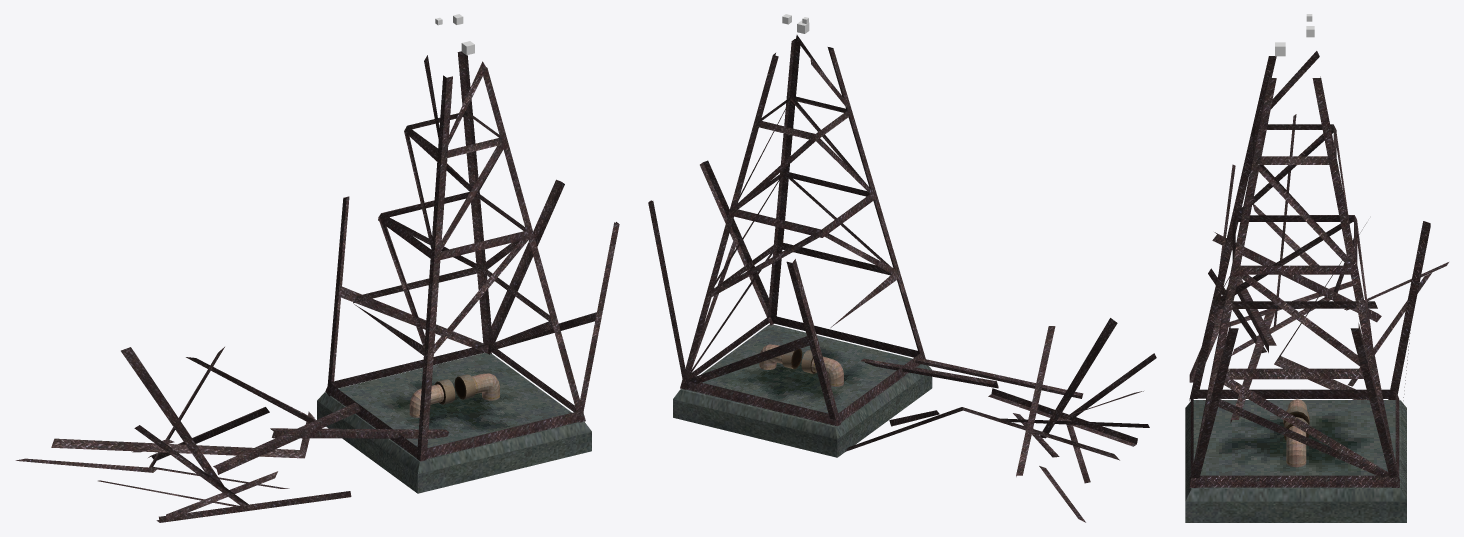
The model's file is OWLHD01X.glb.
3 views of the same model, side by side, from view 1: azimuth 30°, elevation 25°; view 2: azimuth 150°, elevation 25°; view 3: azimuth 270°, elevation 25° (orthographic). The views are drawn at different scales.
Visible parts, largest first — view 1: _OWLHD01X; view 2: _OWLHD01X; view 3: _OWLHD01X.
Boxes of the visible parts, box(x1,y1,x2,y2) form: _OWLHD01X: box(15, 14, 619, 522); _OWLHD01X: box(648, 14, 1156, 522); _OWLHD01X: box(1185, 14, 1448, 522).
Bounding box in the file's own units: 23.09 × 18.07 × 9.49.
7 materials, 6 textured.
